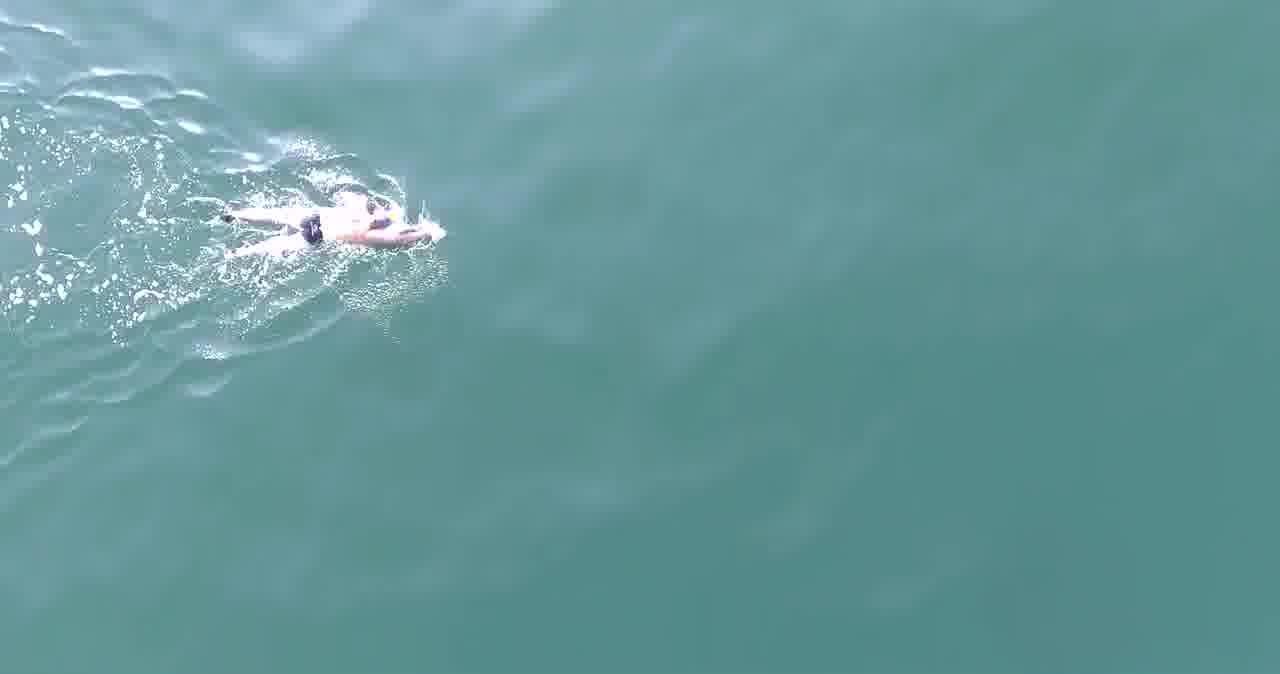human: (211, 191, 443, 261)
